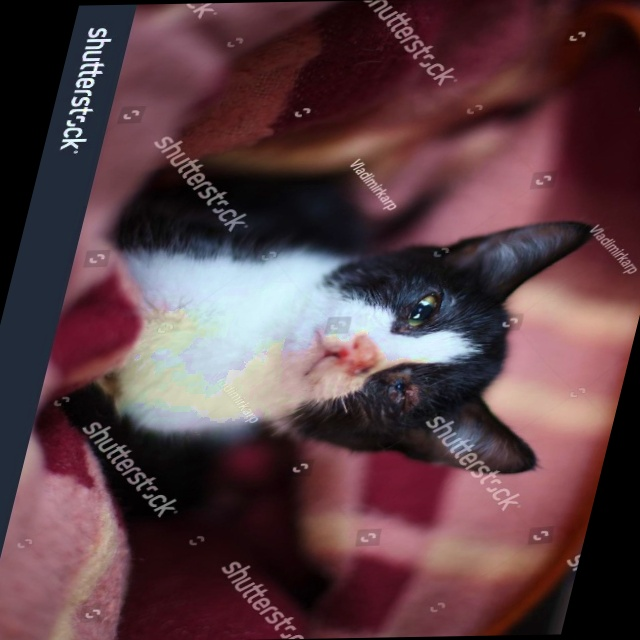eye_infection: (399, 292, 448, 332), (384, 383, 421, 410)
